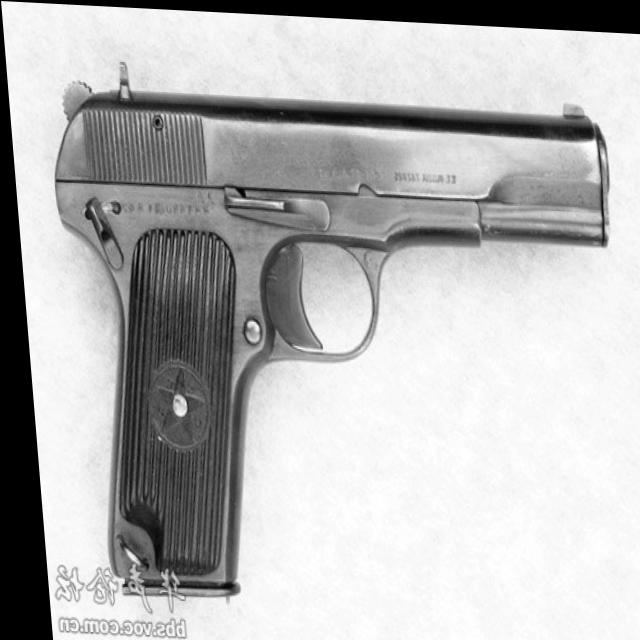handgun: (44, 49, 639, 614)
